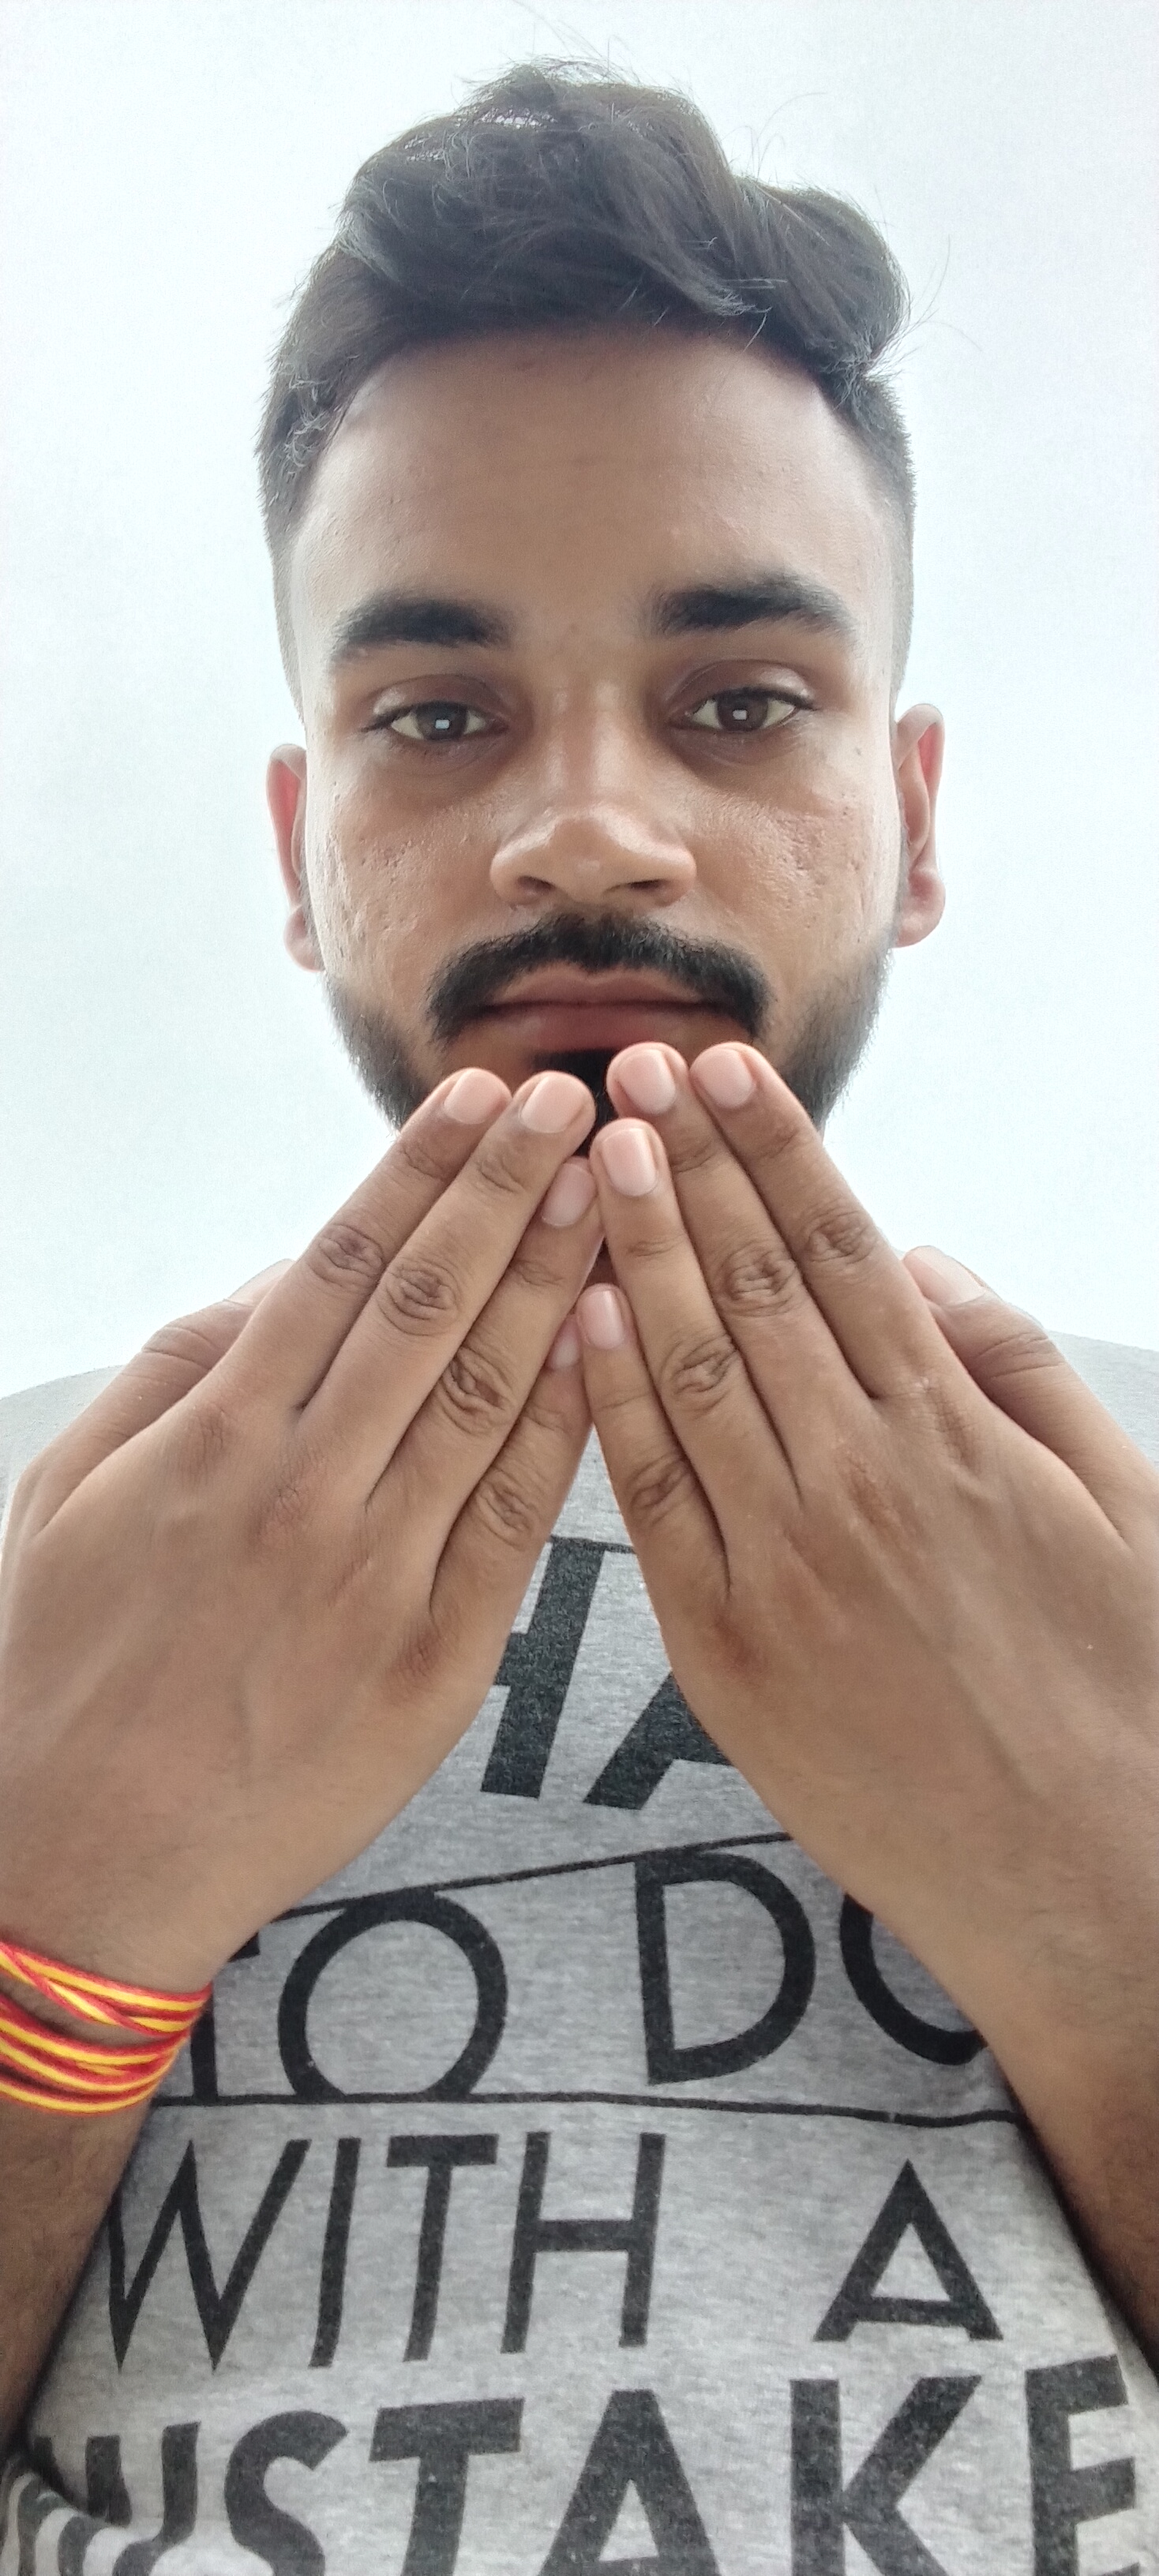Welcome: (5, 1038, 1154, 2127)
